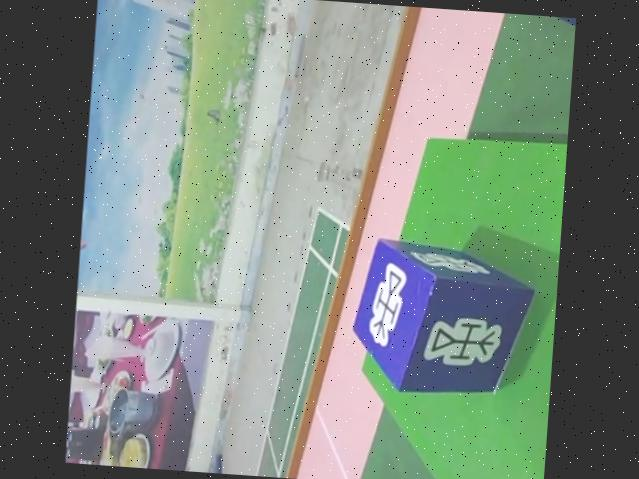R2 Real Blue: (348, 235, 537, 398)
